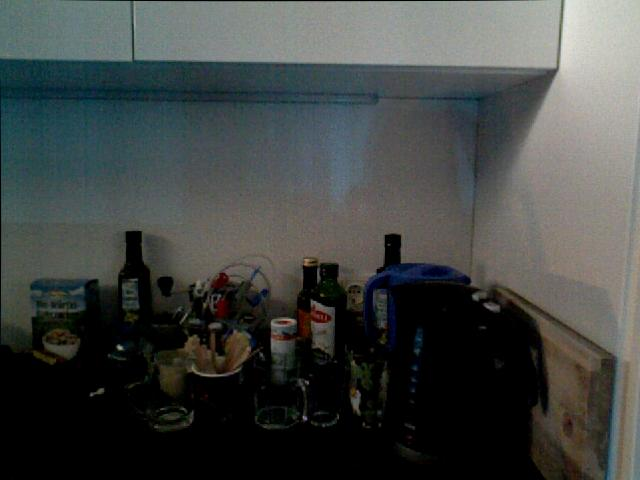bench: (309, 262, 347, 364), (368, 232, 402, 346), (117, 229, 152, 328), (296, 257, 318, 344)
bird: (36, 327, 83, 361)
handbag: (140, 350, 195, 432), (249, 350, 303, 431), (346, 345, 398, 429), (190, 357, 243, 424), (301, 353, 341, 429)
